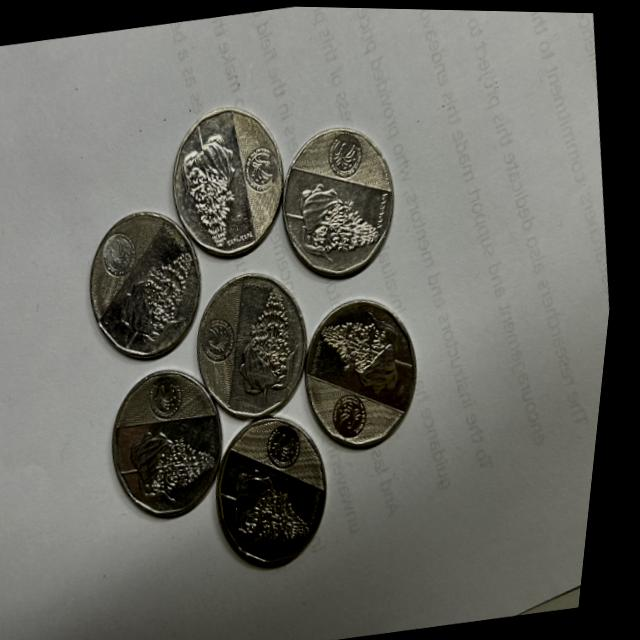10_New_Back: (120, 398, 239, 514), (230, 268, 323, 415), (321, 286, 428, 409), (171, 119, 262, 260), (290, 171, 398, 285), (109, 259, 220, 364), (238, 462, 332, 563)
